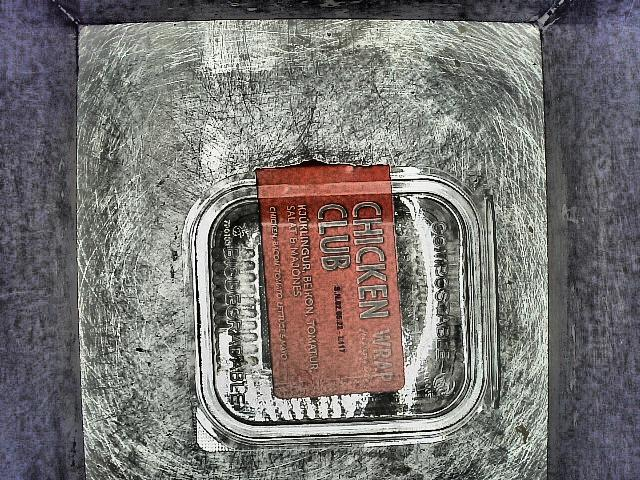Plastic: (176, 148, 513, 463)
